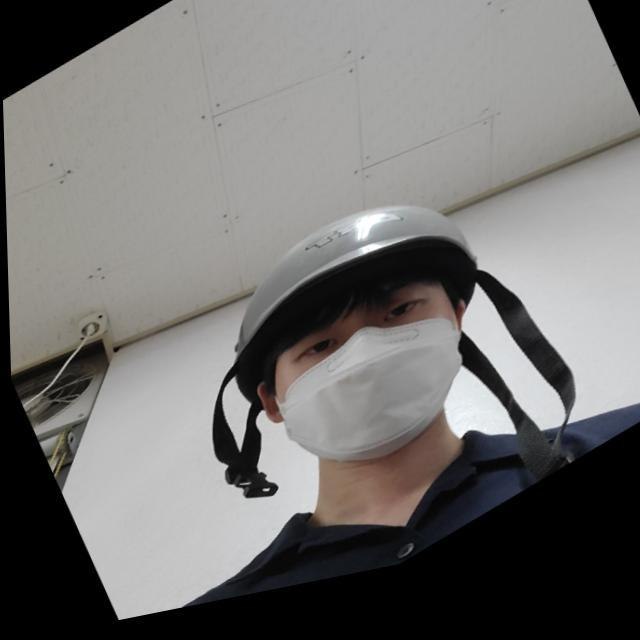Helmet: (209, 199, 490, 496)
